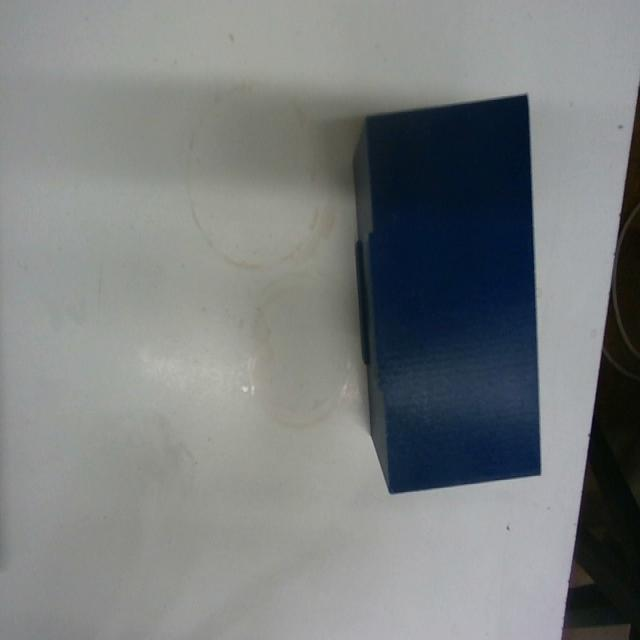Blue Cuboid: (349, 89, 544, 495)
